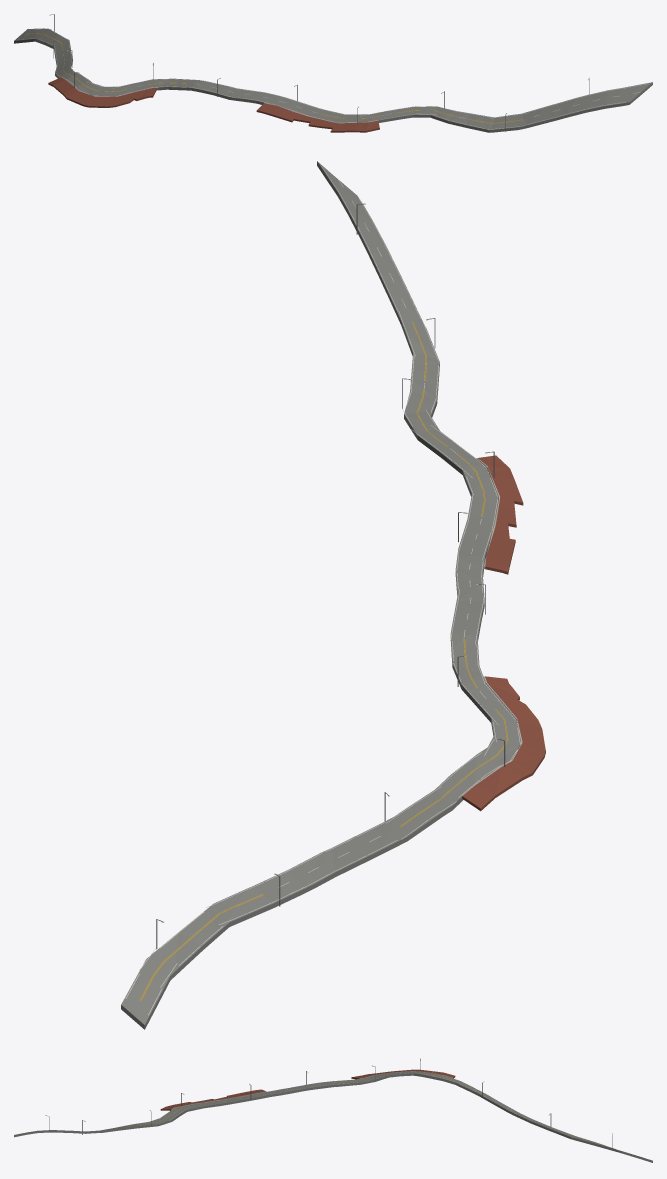
The picture shows the model from 3 angles, top to bottom: view 1: azimuth 30°, elevation 25°; view 2: azimuth 150°, elevation 25°; view 3: azimuth 270°, elevation 25°; orthographic projection. The views are drawn at different scales.
Bounding box in the file's own units: 162 × 72.37 × 291.
